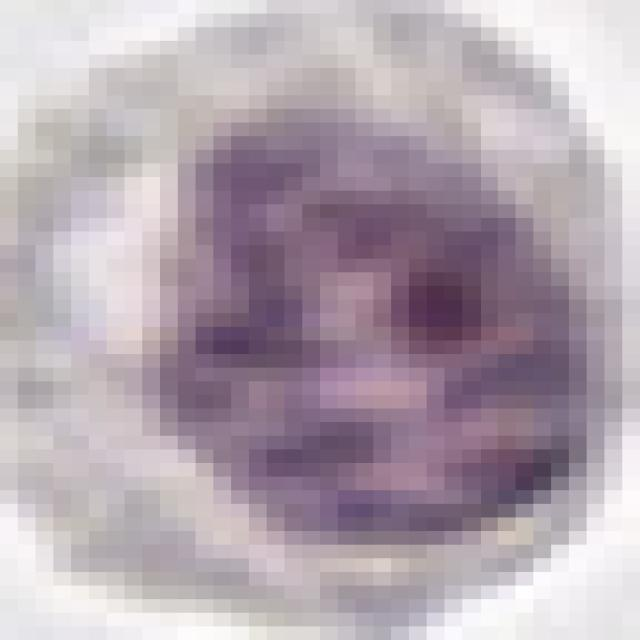cytoplasm: (0, 10, 622, 626)
